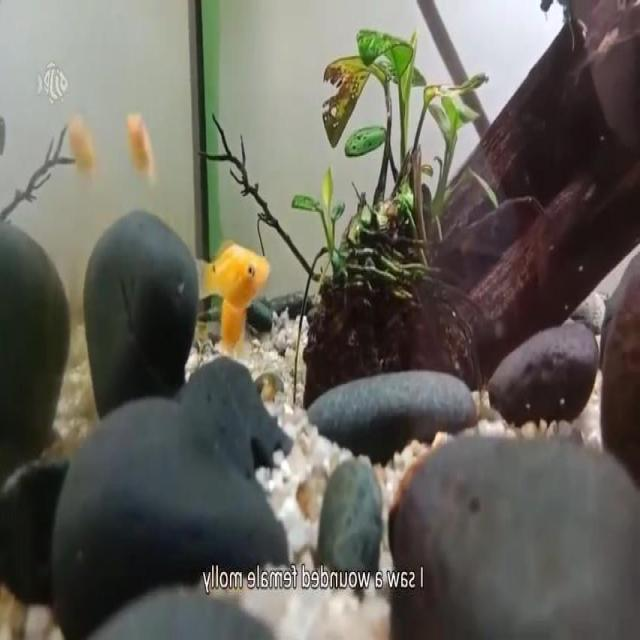PlatyFish: (189, 226, 273, 314)
